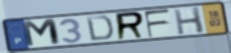3: (58, 17, 84, 44)
D: (84, 15, 115, 42)
F: (143, 8, 172, 39)
H: (172, 5, 207, 36)
M: (20, 17, 63, 49)
R: (115, 10, 147, 41)
